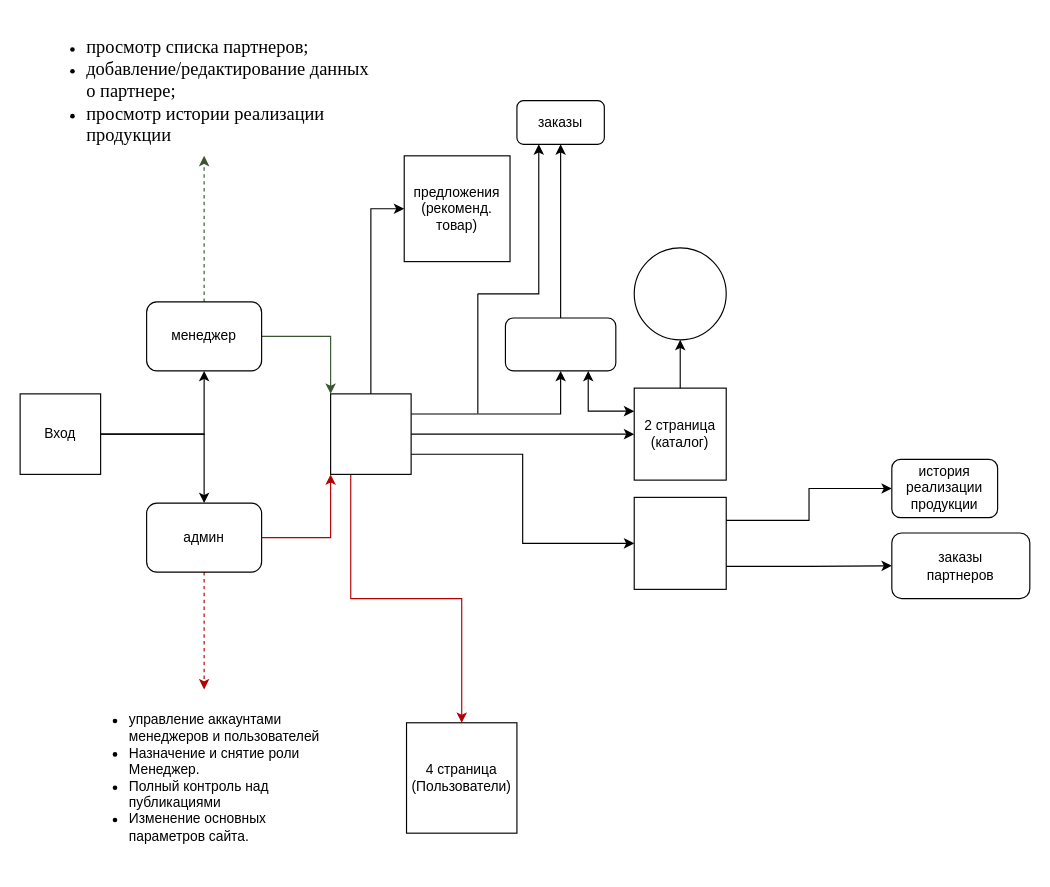
Image size: 1050x887. Some labels were removed from this diagram. The box of each missing label's shape, as (x1, y1, x2, y2) in pixels:
3 страница (список партнеров): (633, 496, 726, 589)
осн. страница: (329, 393, 411, 474)
оформить заказ: (504, 317, 616, 371)
Товар: (633, 247, 726, 340)
